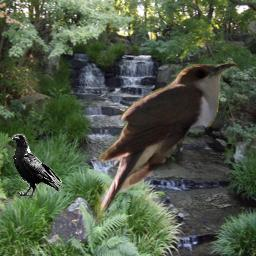Crow: (10, 133, 62, 199)
Cuckoo: (94, 60, 237, 231)
